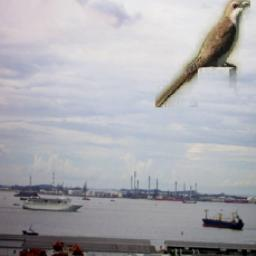Cuckoo: (154, 0, 249, 108)
